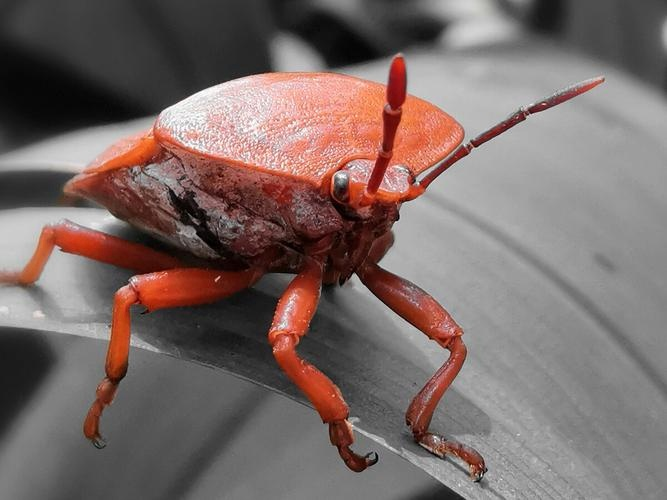Stink_Bug: (92, 58, 466, 397)
